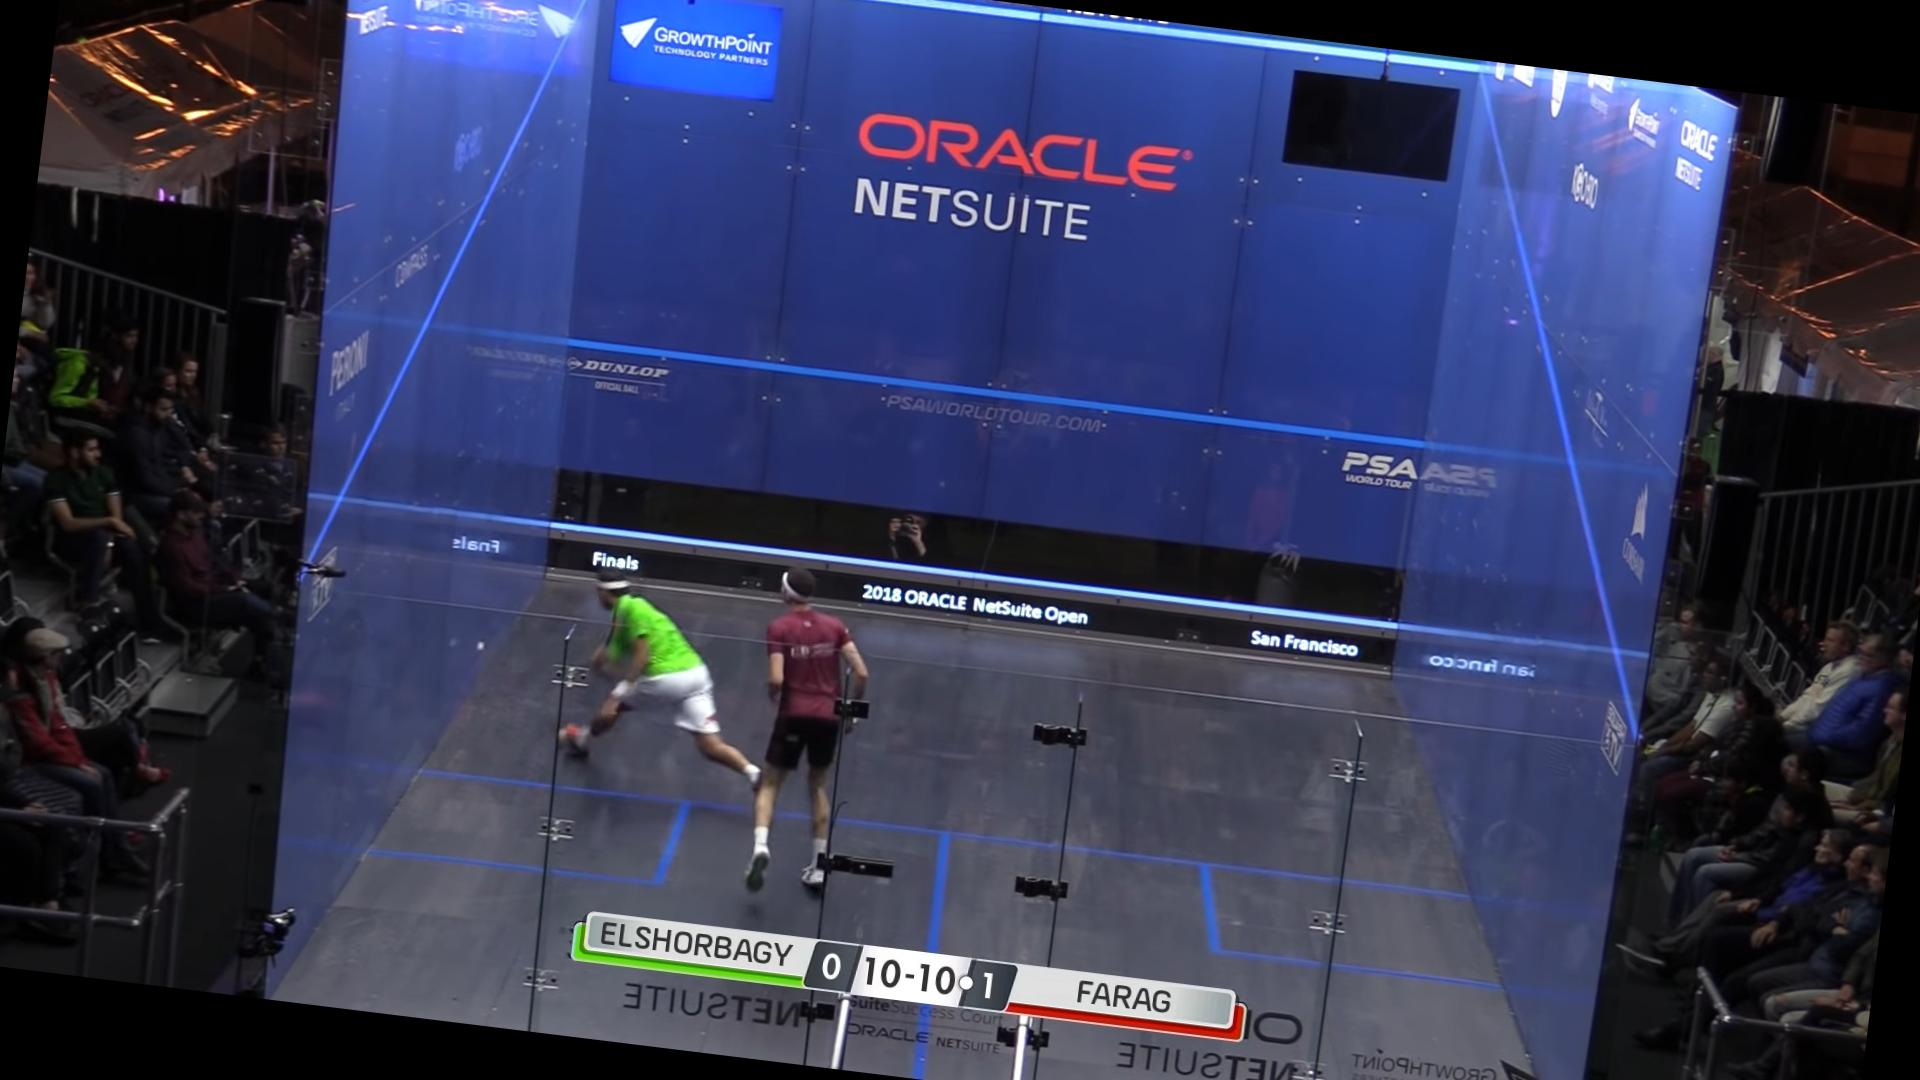Squash-Ball: (468, 630, 497, 663)
